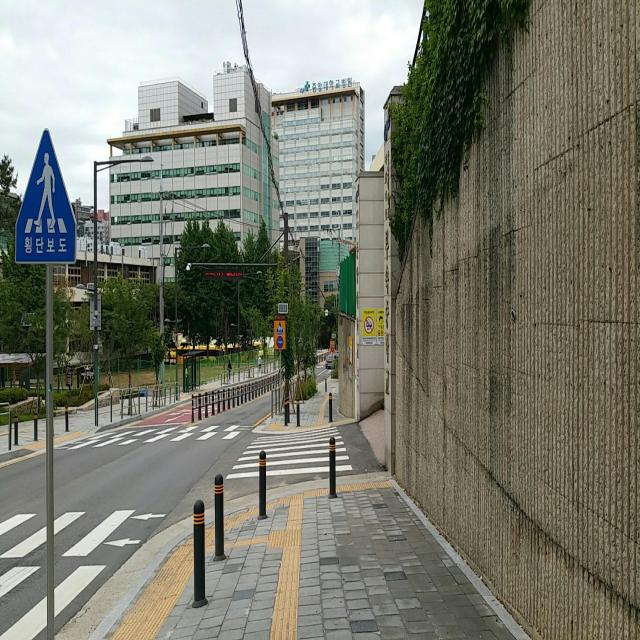횡단보도: (2, 512, 166, 640), (225, 424, 353, 481), (61, 422, 249, 450)
